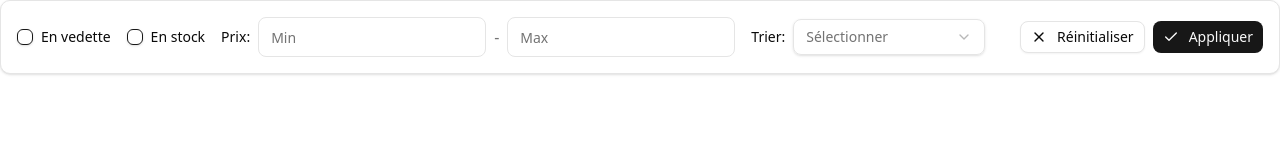
Test case: ProductFilter Component › Soumission du formulaire › ne devrait pas soumettre le formulaire si la validation échoue
This screenshot has width=1280, height=160.
Type "200" into the number field with placeholder "Min". click: (372, 37)
box: 258,17 -> 486,57
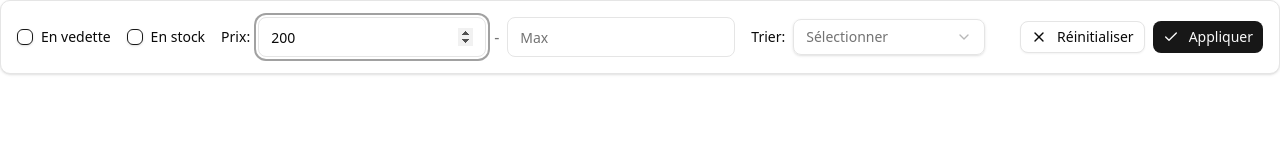
Type "50" into the number field with placeholder "Max". click: (621, 37)
box: 507,17 -> 735,57
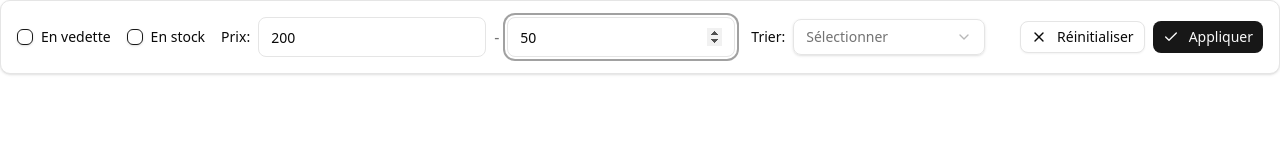
Click the button "Appliquer". click: (1208, 37)
box: 1153,21 -> 1263,53
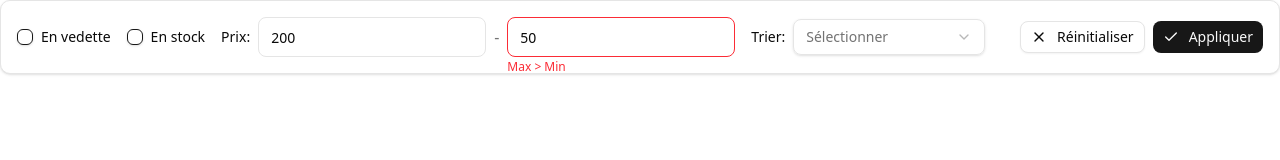
Result: the text "Max > Min" is shown at 507,59 -> 566,75
